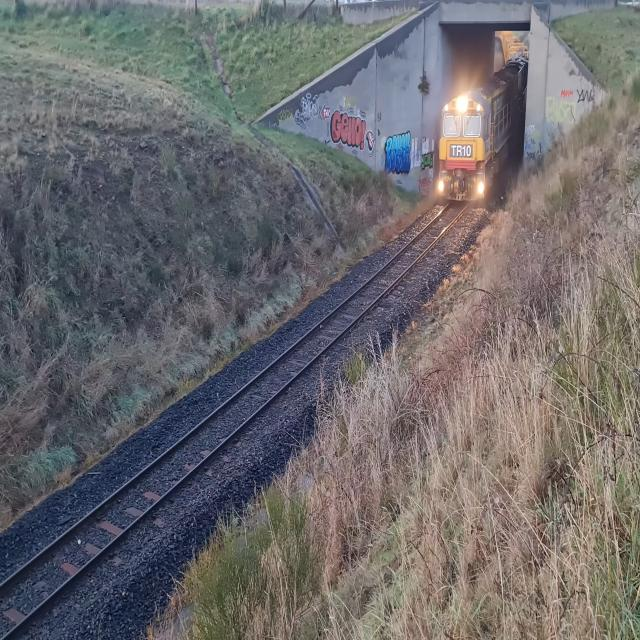locomotive: (434, 70, 516, 212)
